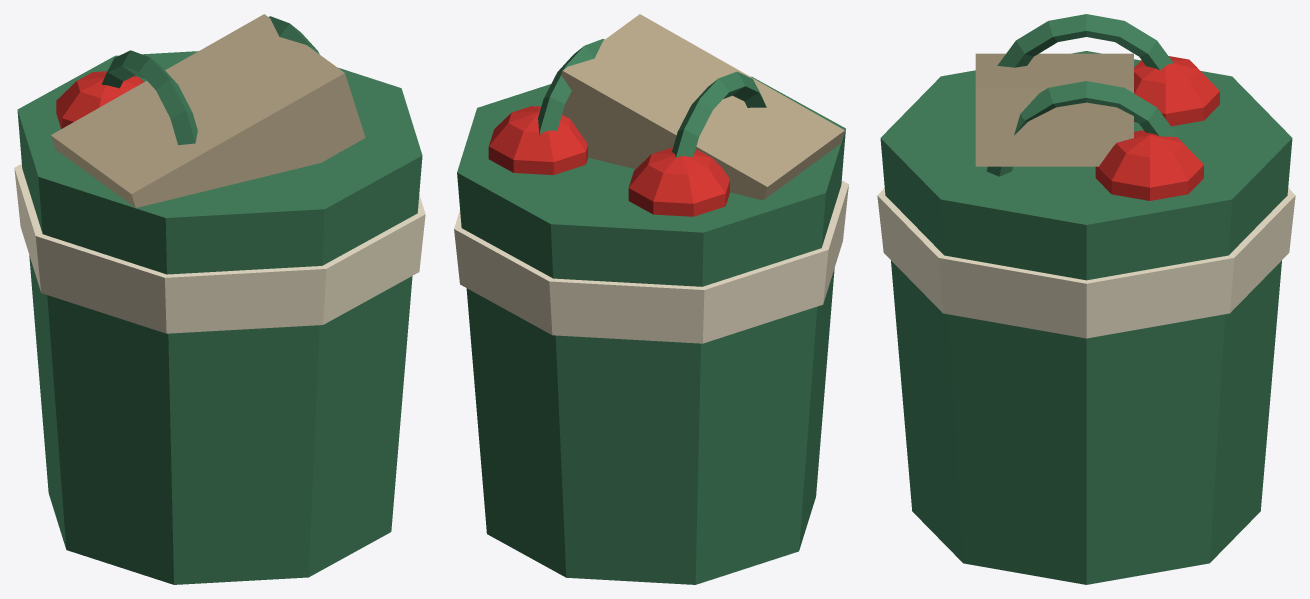
Rendered from rally_market_bag.glb.
3 renders of one model, left to right at view 1: azimuth 30°, elevation 25°; view 2: azimuth 150°, elevation 25°; view 3: azimuth 270°, elevation 25°, orthographic. The views are drawn at different scales.
Visible parts, largest first — view 1: bag_bag_weave, bag_egg_carton, bag_bag_stripe, bag_tomato_red; view 2: bag_bag_weave, bag_egg_carton, bag_bag_stripe, bag_tomato_red (×2); view 3: bag_bag_weave, bag_bag_stripe, bag_egg_carton, bag_tomato_red (×2).
Part boxes in pixels (box(x1,y1,x2,y2)): bag_bag_weave: box(17, 16, 422, 584); bag_egg_carton: box(51, 14, 365, 207); bag_bag_stripe: box(14, 163, 425, 333); bag_tomato_red: box(56, 71, 143, 128); bag_bag_weave: box(457, 39, 845, 584); bag_egg_carton: box(561, 14, 844, 200); bag_bag_stripe: box(454, 180, 848, 343); bag_tomato_red (×2): box(488, 106, 729, 216); bag_bag_weave: box(880, 14, 1292, 584); bag_bag_stripe: box(877, 188, 1295, 338); bag_egg_carton: box(975, 53, 1133, 166); bag_tomato_red (×2): box(1095, 56, 1219, 200).
Size of the model in its own units: 0.264 by 0.323 by 0.264.
